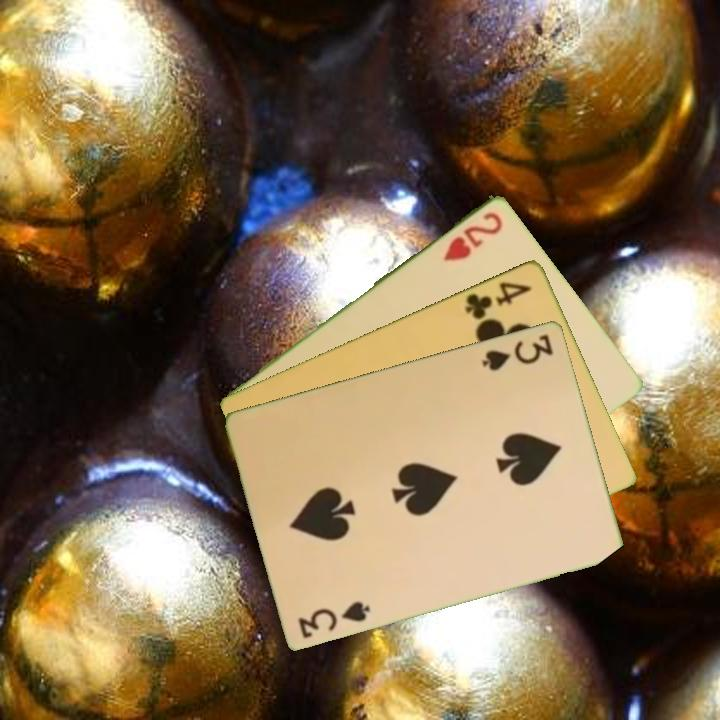2h: (439, 207, 506, 264)
3s: (295, 596, 374, 641), (479, 330, 556, 373)
4c: (462, 277, 535, 322)
